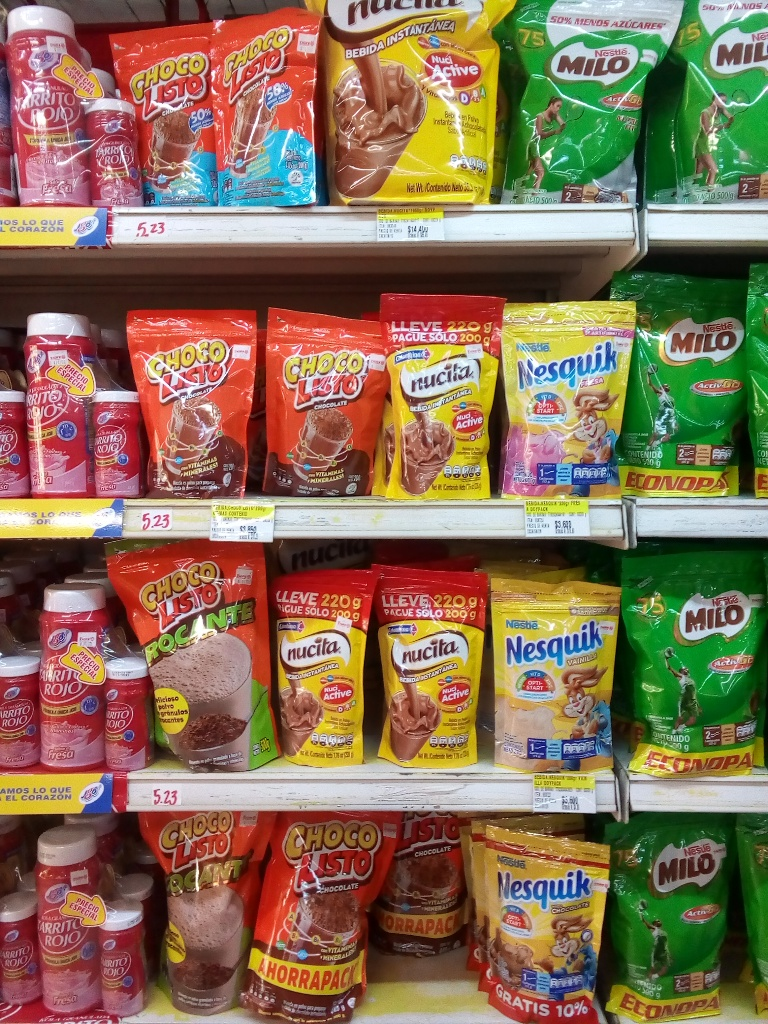COL0170102DYP50000: (106, 540, 281, 772)
COL0170103DYP20000: (126, 309, 254, 500)
COL0170103DYP40000: (259, 807, 391, 1021)
COL0170104DYP20000: (107, 27, 223, 205)
COL0170203DYP50000: (611, 269, 747, 496)
COL0170205DYP50000: (505, 3, 660, 206)
COL0170305DYP20000: (500, 301, 641, 499)
COL0170306DYP20000: (488, 576, 619, 770)
